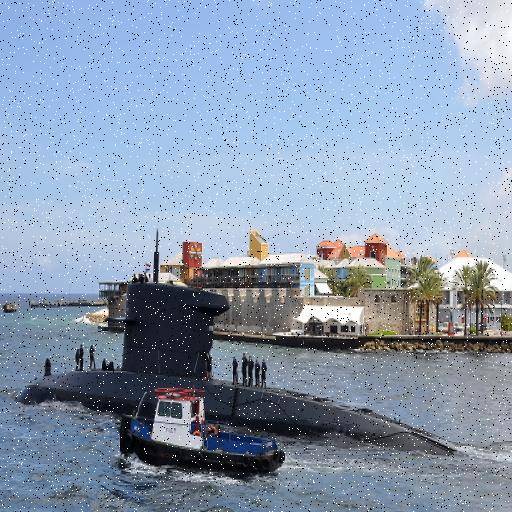submarine: (24, 227, 475, 455)
